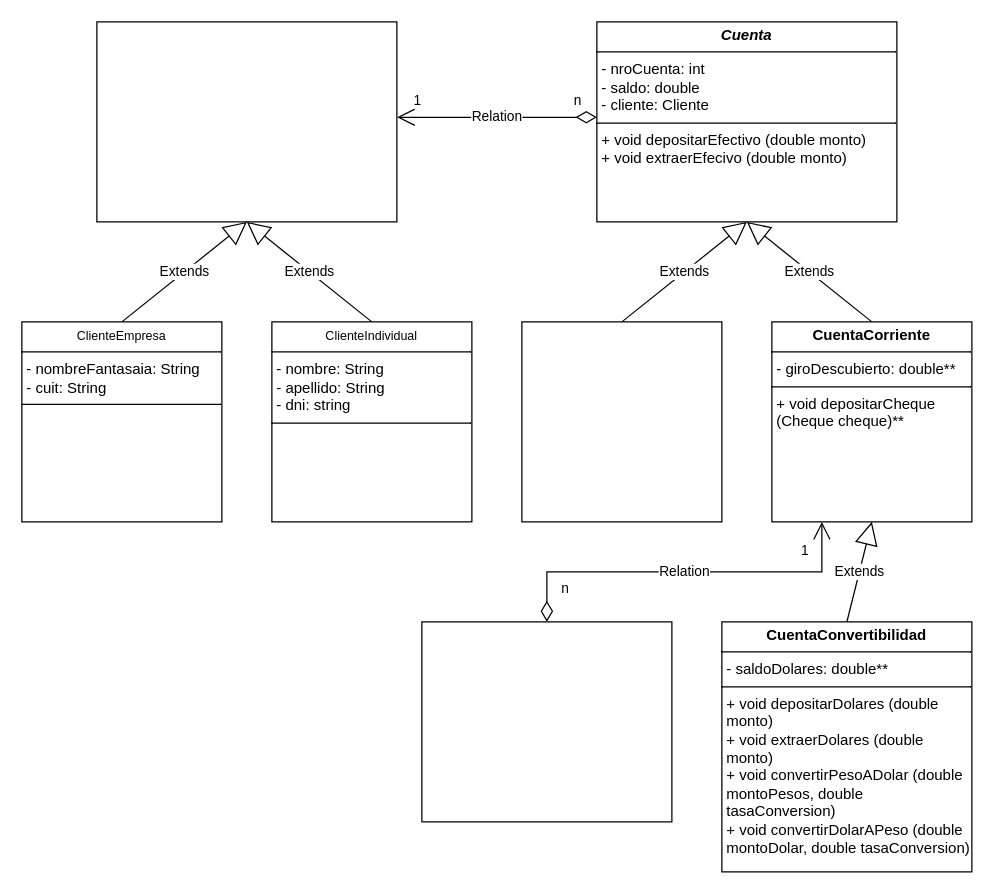
This 994x894 diagram has some shape labels left out. The shapes that lost their labels are listed below. From the top down, each one's box as (x1, y1, x2, y2) in pixels, then its label:
(96, 21, 397, 222): Cliente - nroCliente: int
(521, 321, 722, 522): CajaDeAhorro - tasaInteres: double + void cobrarInteres (double interes)
(421, 621, 672, 822): Cheque - monto: double - bancoEmisor: String - fechaPago: LocalDate**
